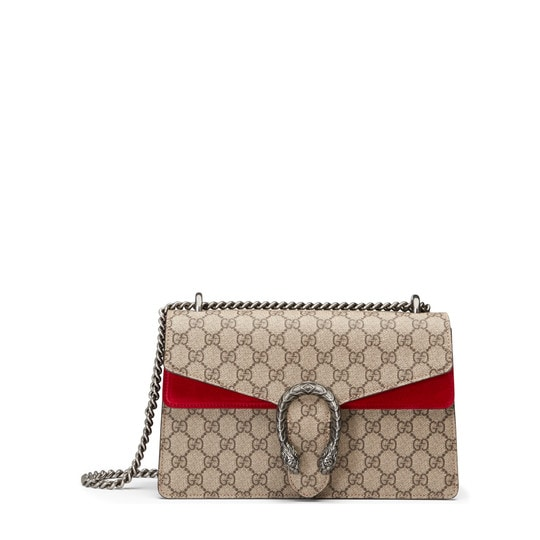Gucci: (128, 263, 482, 519), (183, 311, 420, 368), (271, 379, 364, 475)
